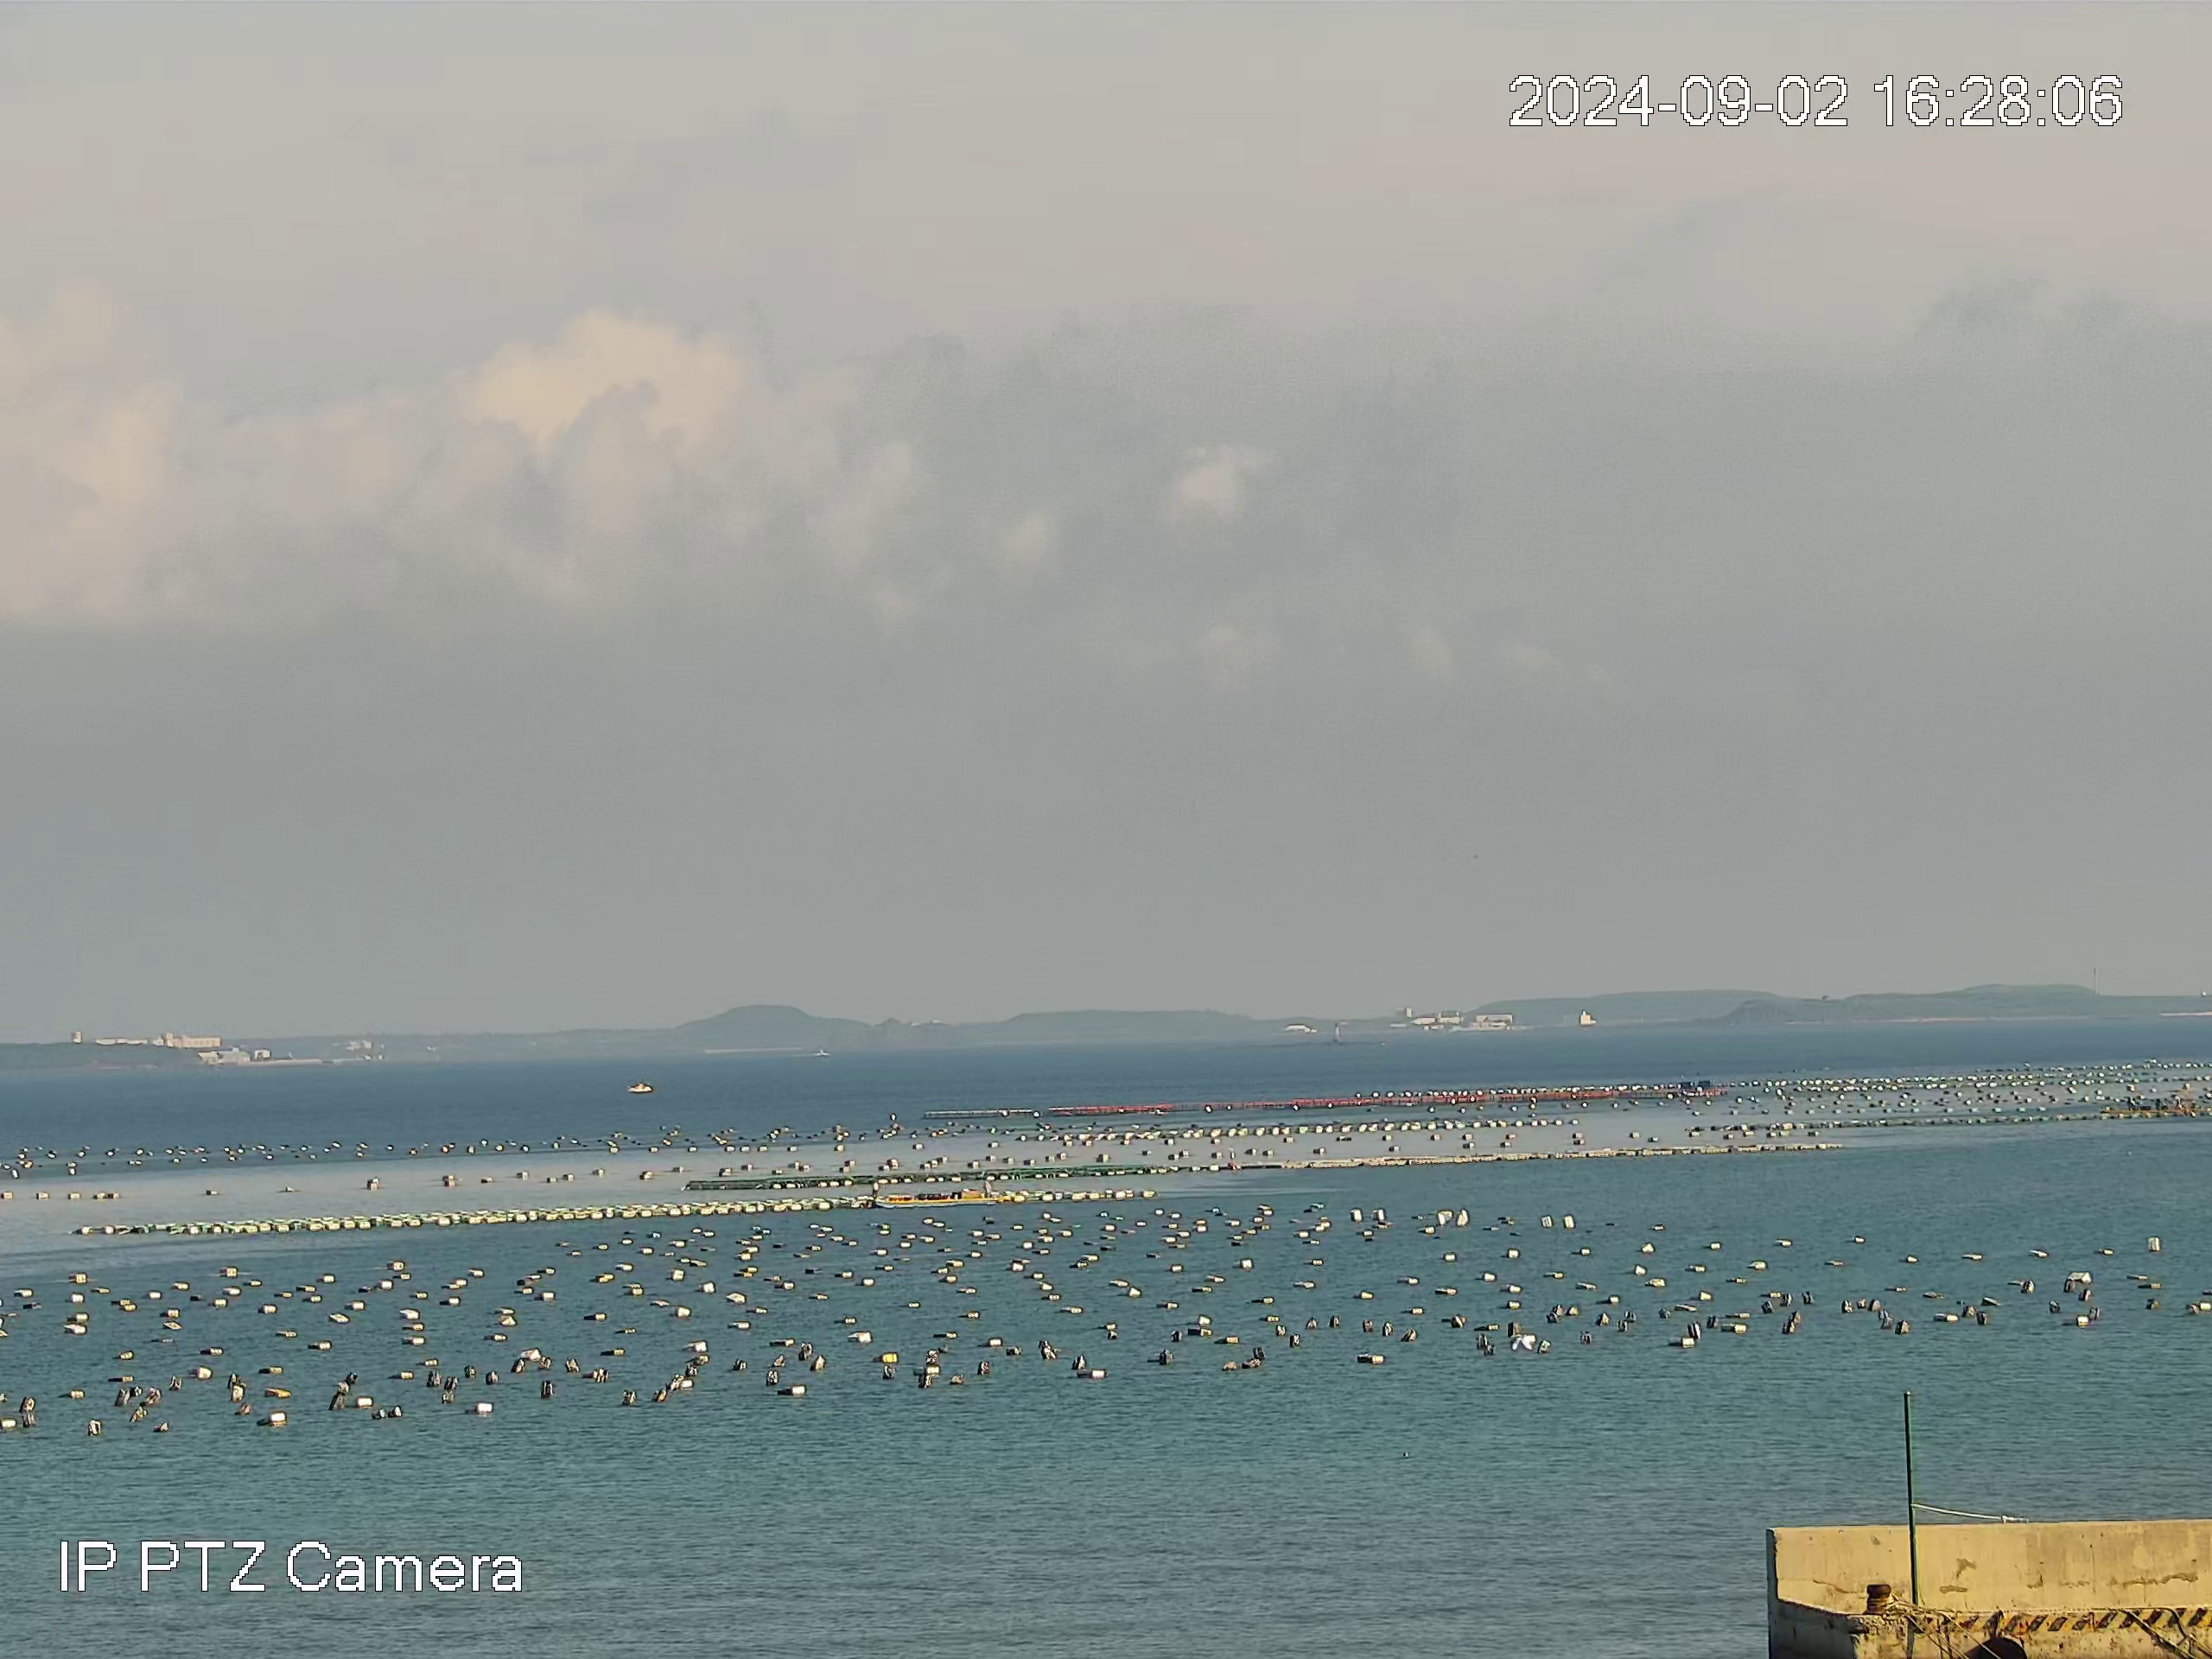boat: (874, 1180, 1010, 1209), (2099, 1093, 2209, 1115), (625, 1080, 653, 1094)
